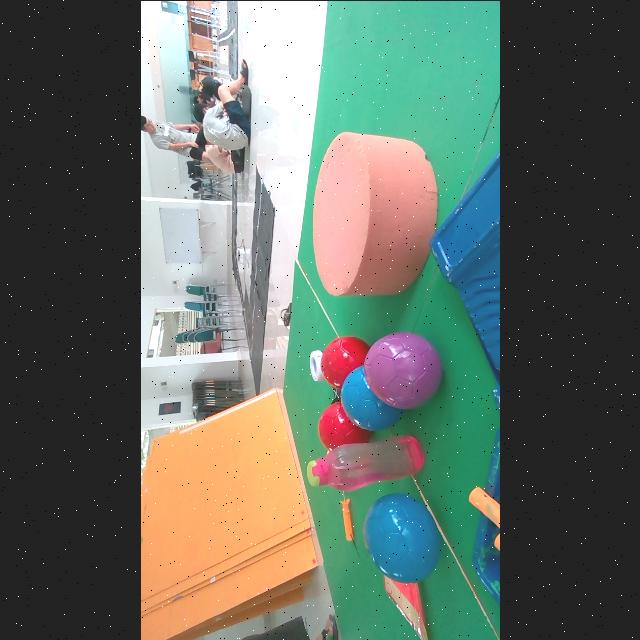B: (363, 493, 440, 582), (340, 365, 403, 430)
P: (364, 331, 441, 408)
R: (317, 401, 371, 449), (320, 336, 368, 388)
